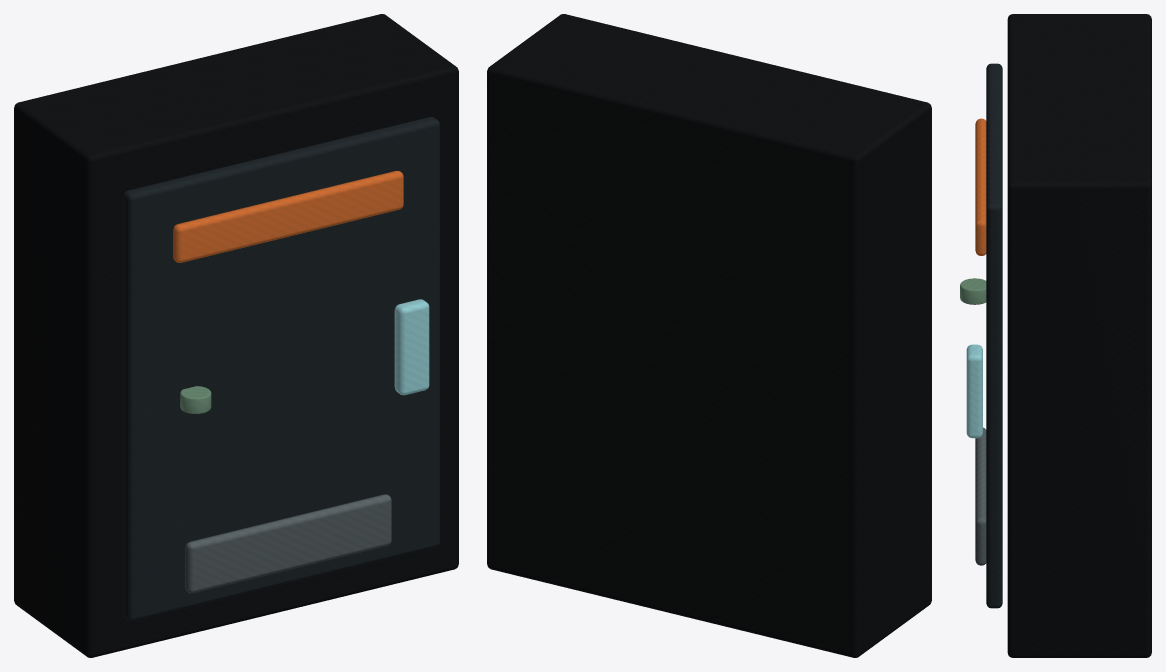
File: WallJunctionBox.glb
3 views of the same model, side by side, from view 1: azimuth 30°, elevation 25°; view 2: azimuth 150°, elevation 25°; view 3: azimuth 270°, elevation 25° (orthographic). The views are drawn at different scales.
Parts seen in each view (by area): view 1: WallJunctionBox_Mesh; view 2: WallJunctionBox_Mesh; view 3: WallJunctionBox_Mesh.
Part boxes in pixels (x1,y1,x2,y2): WallJunctionBox_Mesh: [14, 14, 458, 657]; WallJunctionBox_Mesh: [487, 14, 931, 657]; WallJunctionBox_Mesh: [960, 14, 1151, 657].
Size of the model in its own units: 0.62 by 0.8 by 0.2925.
6 materials, 6 textured.
